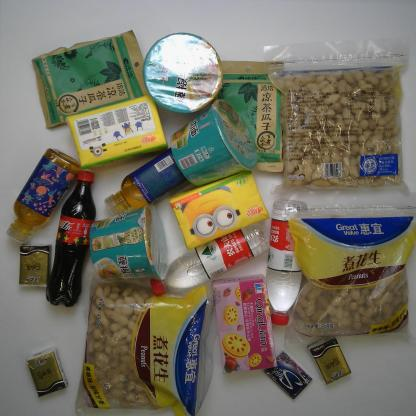Dessert: (211, 272, 277, 375)
Dried Food: (265, 38, 413, 199), (73, 267, 214, 416), (285, 196, 415, 341), (29, 30, 154, 128), (216, 58, 286, 177)
Drink: (151, 223, 268, 295), (45, 170, 97, 311), (8, 148, 80, 242), (103, 150, 188, 219), (266, 199, 309, 326)
Gum: (264, 348, 313, 400)
Instant Noodles: (170, 98, 258, 188), (142, 31, 222, 113), (90, 209, 170, 288)
Tissue: (169, 169, 271, 251), (65, 95, 168, 168), (306, 334, 352, 385), (26, 346, 68, 398), (18, 240, 52, 288)
